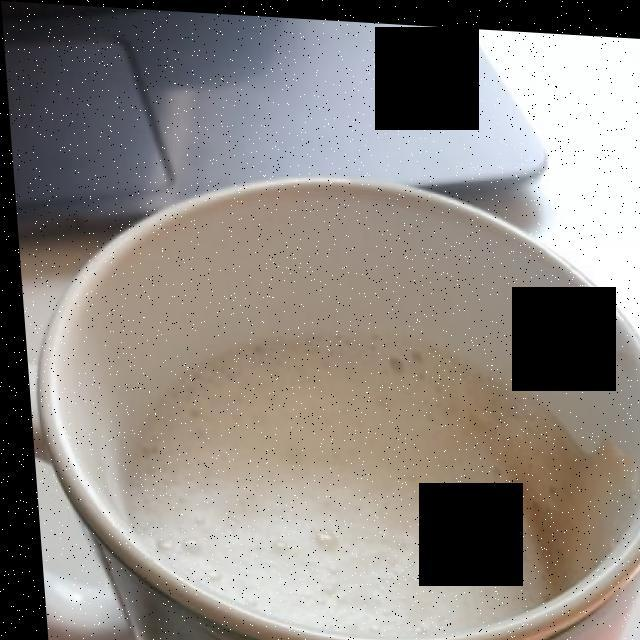cappuccino: (128, 330, 608, 626)
